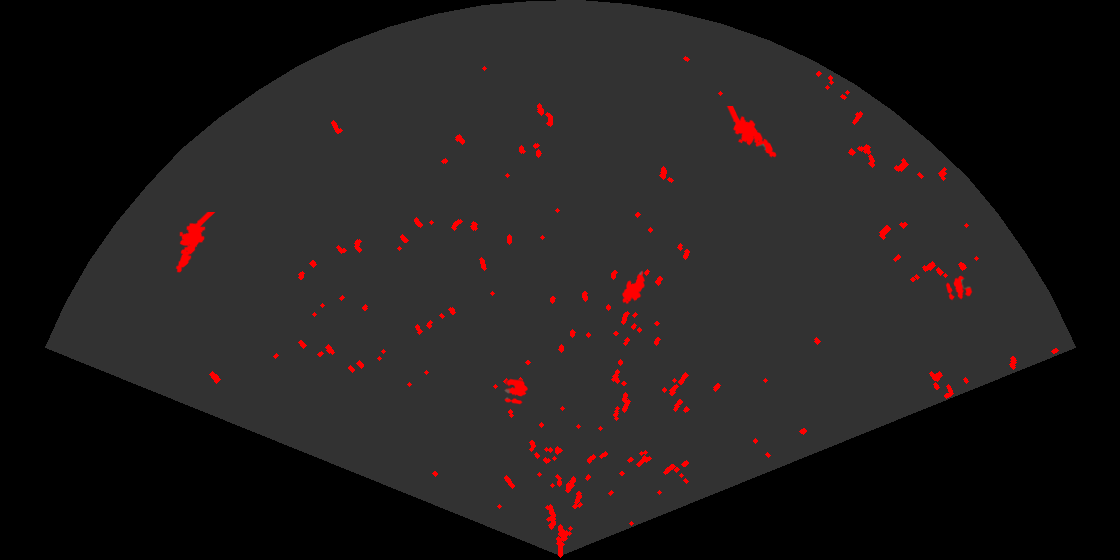AUV: (620, 269, 647, 306)
ball: (944, 274, 974, 302), (503, 377, 529, 406)
frogman: (725, 106, 778, 159), (174, 212, 217, 274)
